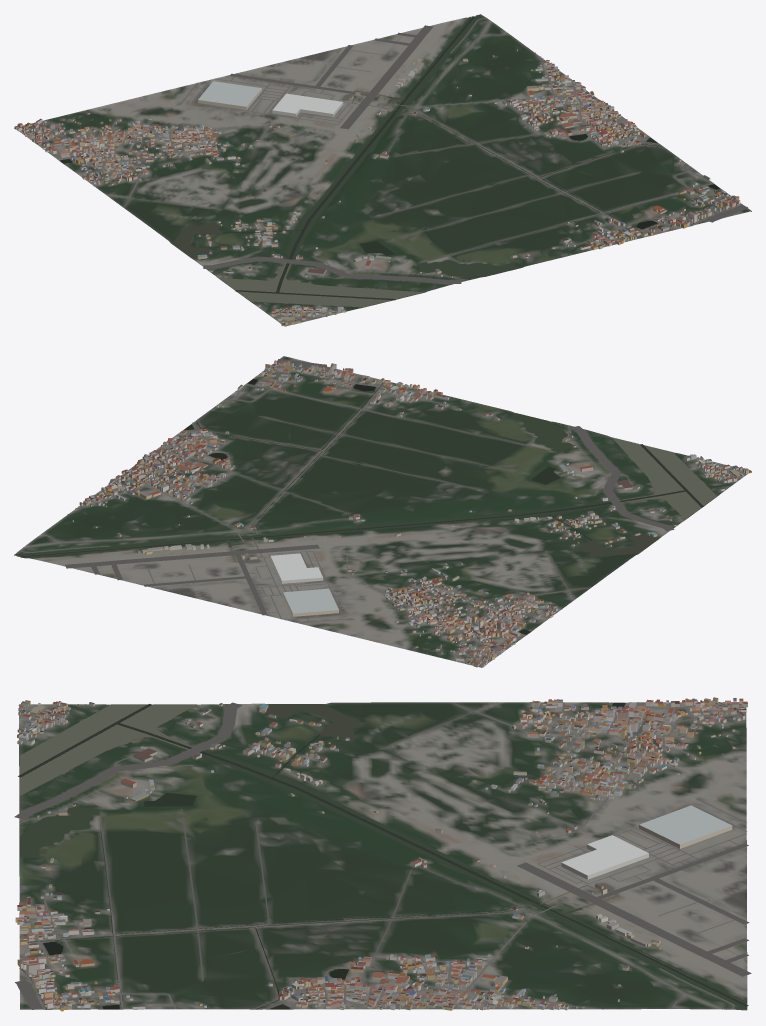
3 renders of one model, top to bottom at view 1: azimuth 30°, elevation 25°; view 2: azimuth 150°, elevation 25°; view 3: azimuth 270°, elevation 25°, orthographic. The views are drawn at different scales.
Parts seen in each view (by area): view 1: ground, buildings, water, roads; view 2: ground, buildings, water, roads; view 3: ground, buildings, water, roads.
Part boxes in pixels (x1,y1,x2,y2): ground: [14, 14, 751, 326]; buildings: [14, 49, 740, 326]; water: [60, 14, 740, 307]; roads: [24, 18, 747, 326]; ground: [14, 356, 748, 667]; buildings: [72, 360, 751, 667]; water: [15, 363, 716, 634]; roads: [20, 359, 738, 666]; ground: [19, 702, 747, 1010]; buildings: [15, 697, 747, 1011]; water: [18, 702, 748, 1009]; roads: [14, 702, 751, 1009].
Size of the model in its own units: 1415 by 28.92 by 1422.
